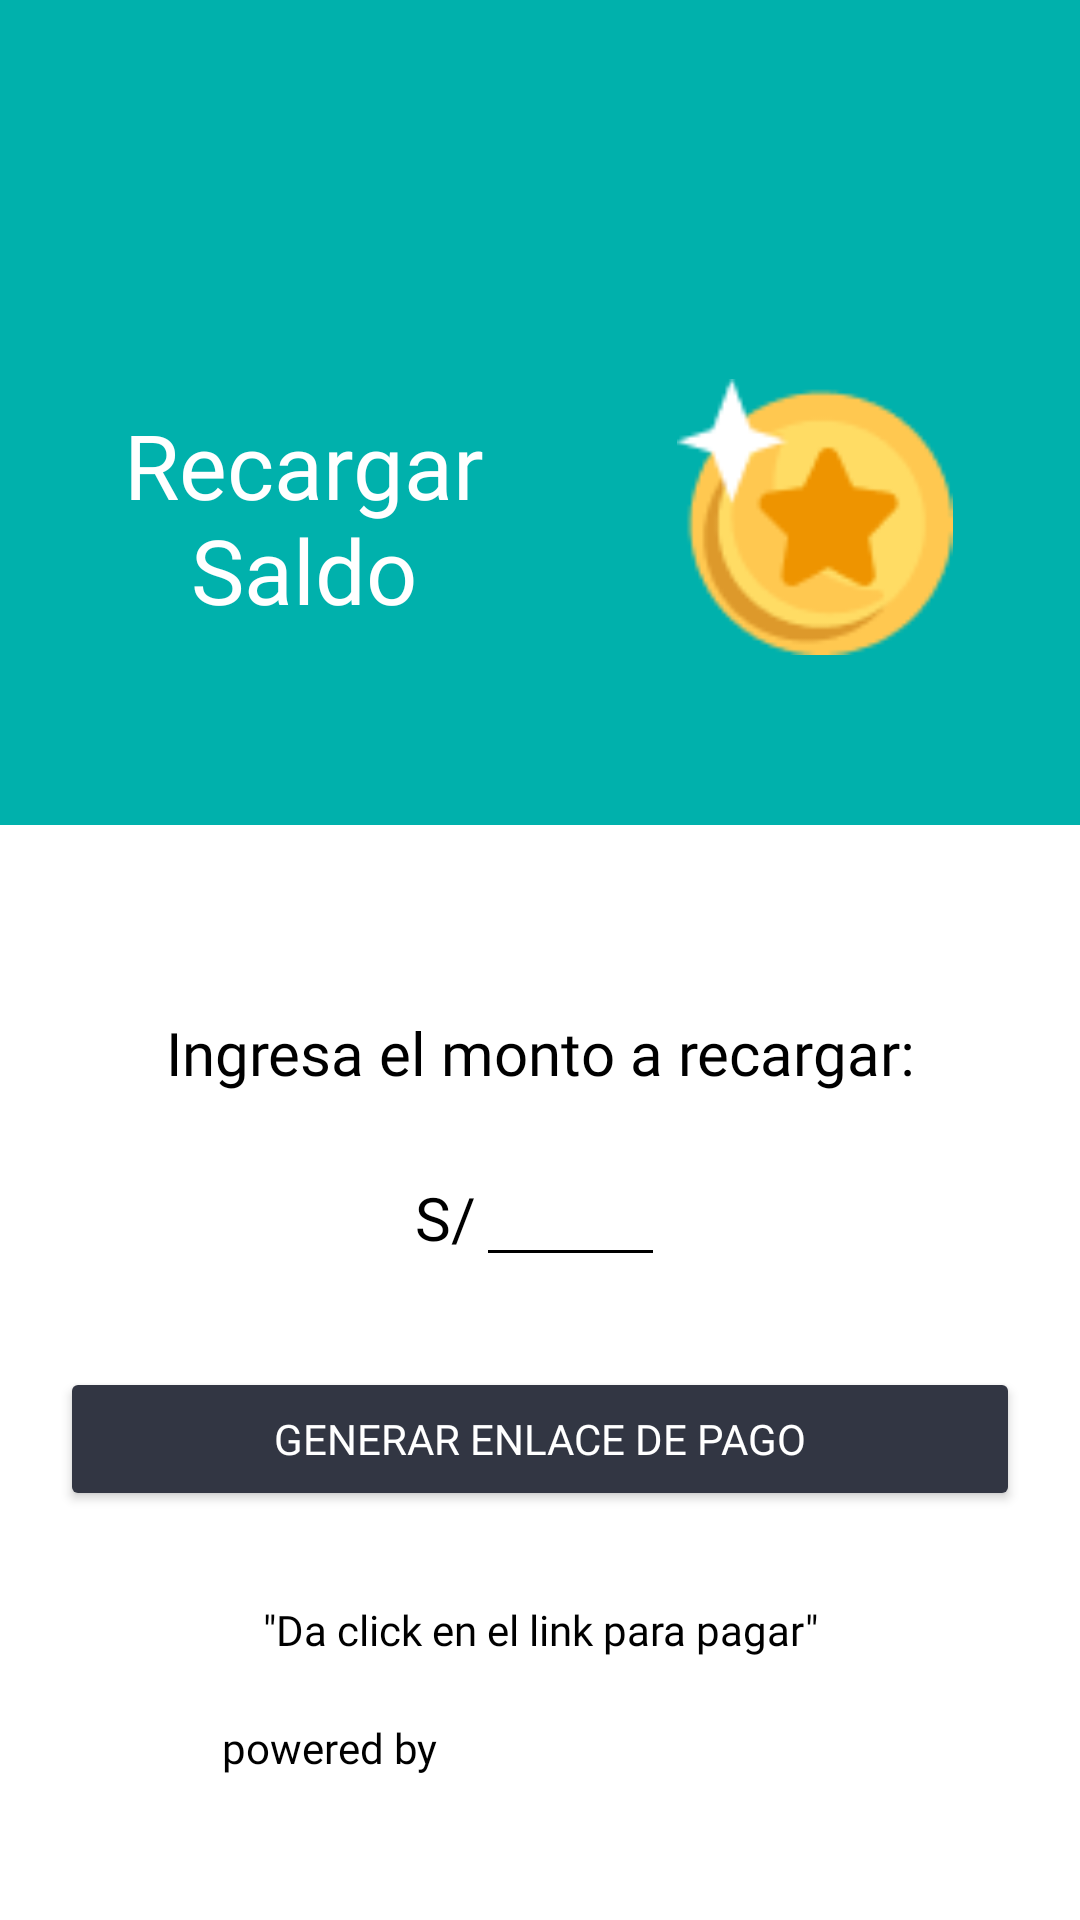

Named icons in this screenshot (1080px x 1920px) and their centers, (x=x, y=y):
coin: (x=815, y=517)
